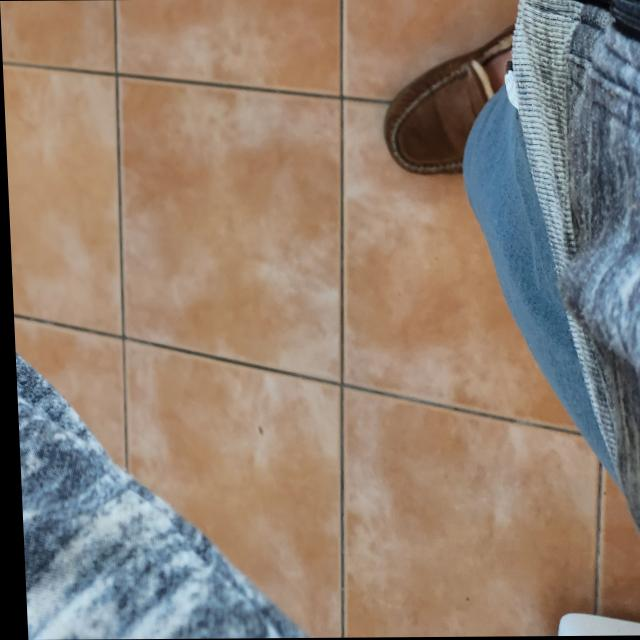cheese: (0, 1, 21, 37)
